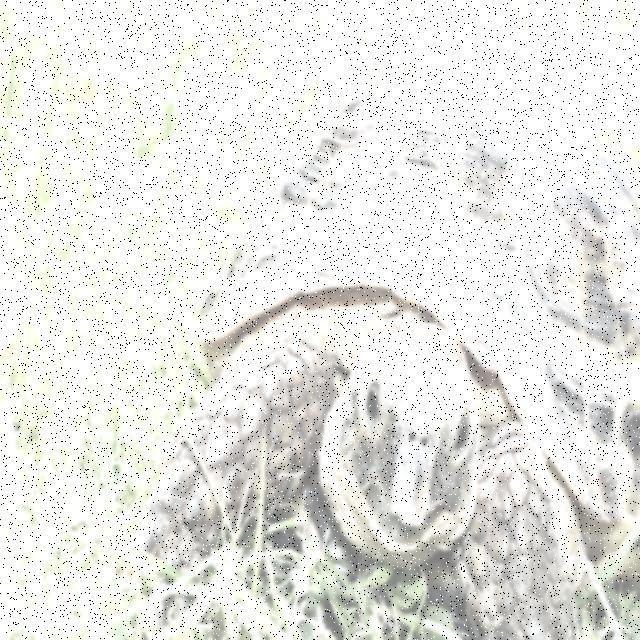tortoise: (157, 292, 616, 640)
